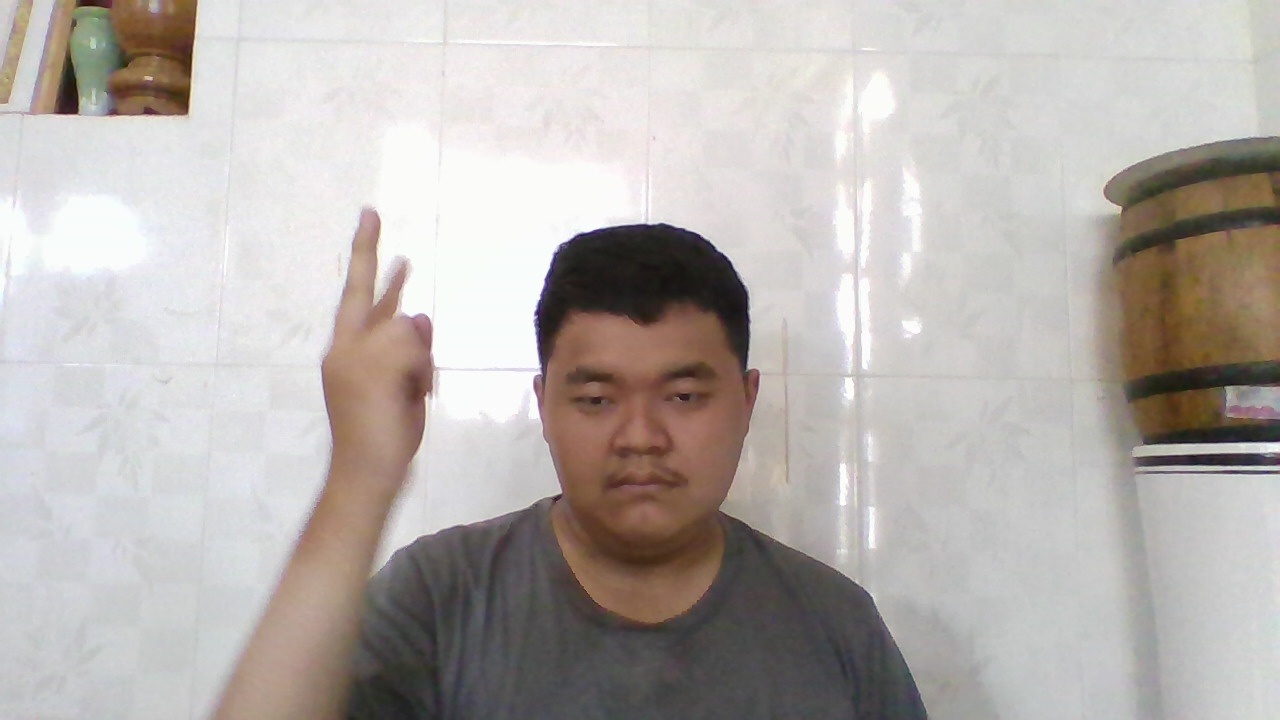H: (321, 212, 442, 494)
